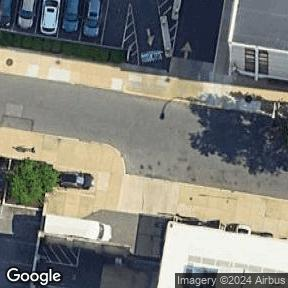vegetation: (10, 159, 60, 208)
